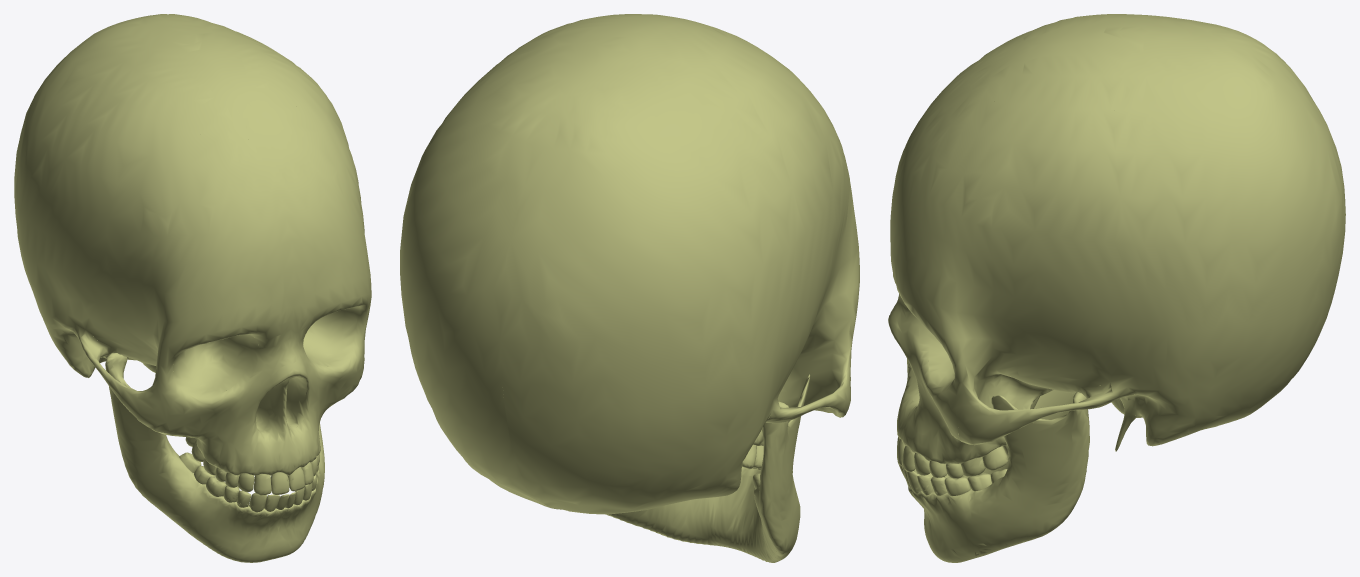
The model's file is HumanSkeleton_part_0.fbx.
3 renders of one model, left to right at view 1: azimuth 30°, elevation 25°; view 2: azimuth 150°, elevation 25°; view 3: azimuth 270°, elevation 25°, orthographic. The views are drawn at different scales.
Visible parts, largest first — view 1: Skeletal_Cranium_Calavera_0.001; view 2: Skeletal_Cranium_Calavera_0.001; view 3: Skeletal_Cranium_Calavera_0.001.
Part boxes in pixels (left/top/right/bottom): Skeletal_Cranium_Calavera_0.001: left=14, top=14, right=371, bottom=562; Skeletal_Cranium_Calavera_0.001: left=400, top=14, right=859, bottom=562; Skeletal_Cranium_Calavera_0.001: left=888, top=14, right=1345, bottom=562.
Size of the model in its own units: 1479 by 2344 by 1886.
